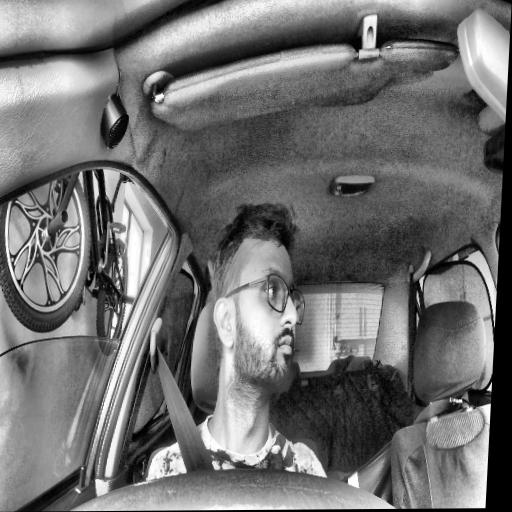awake: (205, 201, 311, 397)
